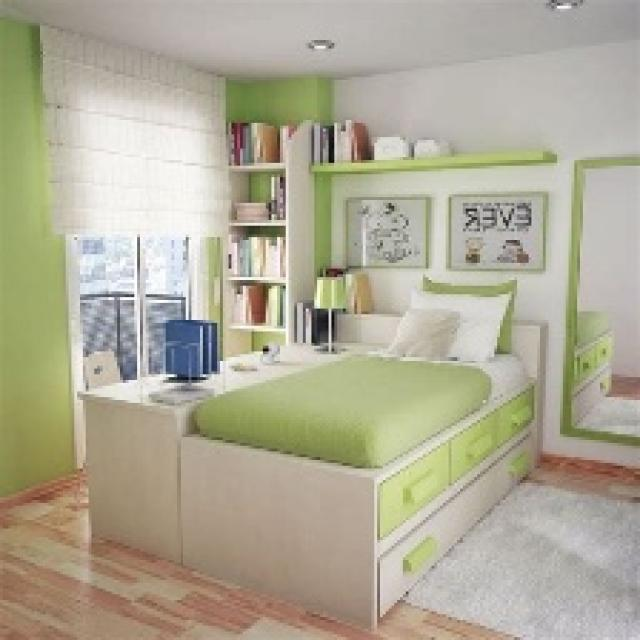Bed: (177, 314, 543, 629)
